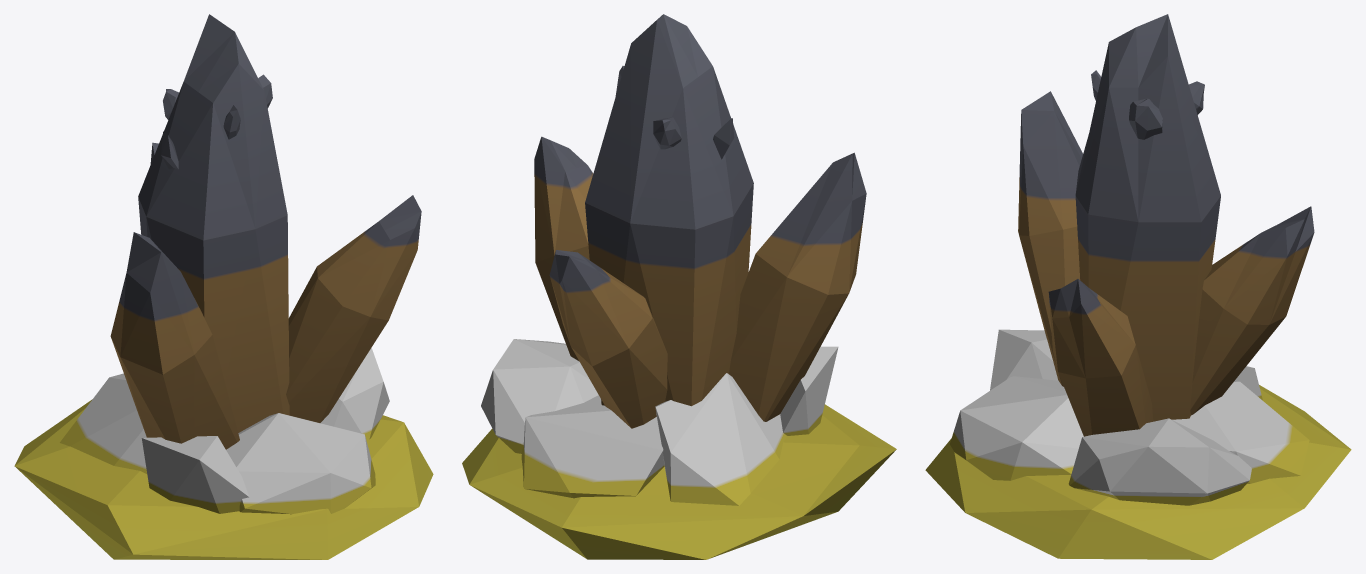
File: Crystal_01.fbx
The picture shows the model from 3 angles, left to right: view 1: azimuth 30°, elevation 25°; view 2: azimuth 150°, elevation 25°; view 3: azimuth 270°, elevation 25°; orthographic projection.
Visible parts, largest first — view 1: Crystal_01; view 2: Crystal_01; view 3: Crystal_01.
Part boxes in pixels (x1,y1,x2,y2): Crystal_01: [14, 14, 433, 559]; Crystal_01: [462, 14, 896, 559]; Crystal_01: [925, 14, 1351, 559].
Bounding box in the file's own units: 1.37 × 1.88 × 1.49.
